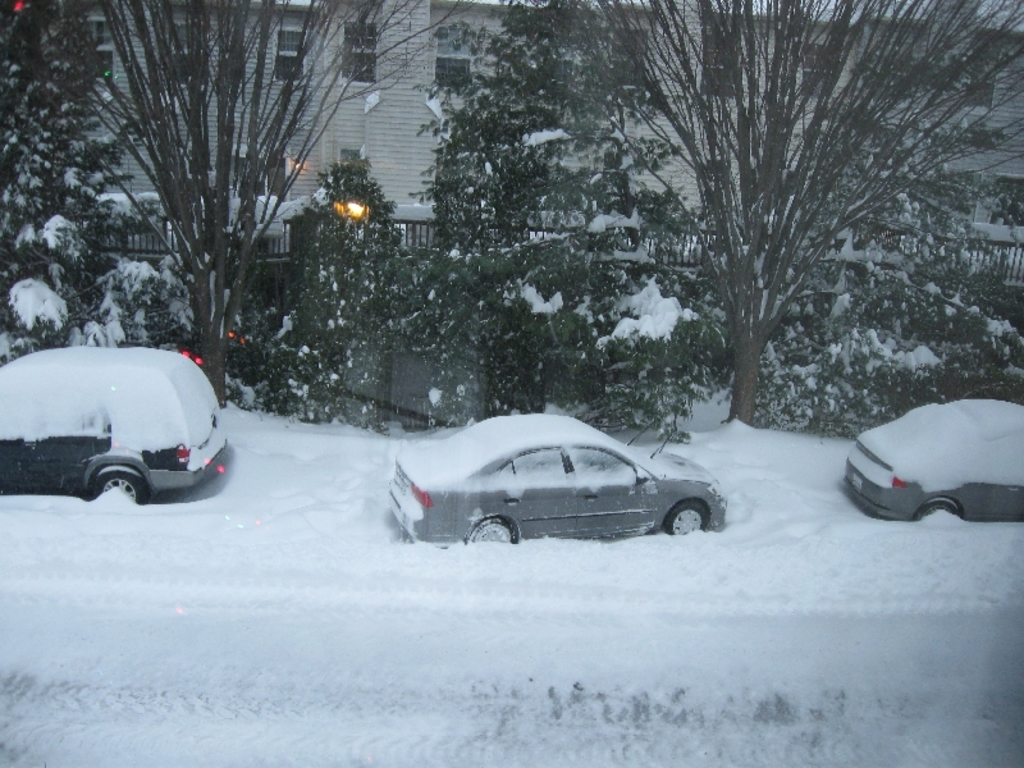Car: (373, 416, 720, 554), (1, 348, 238, 504), (844, 400, 1022, 526)
